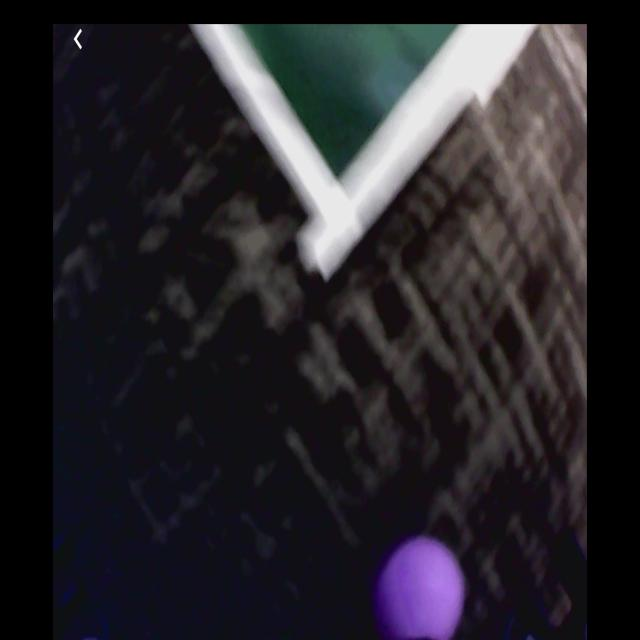ball: (379, 538, 472, 638)
